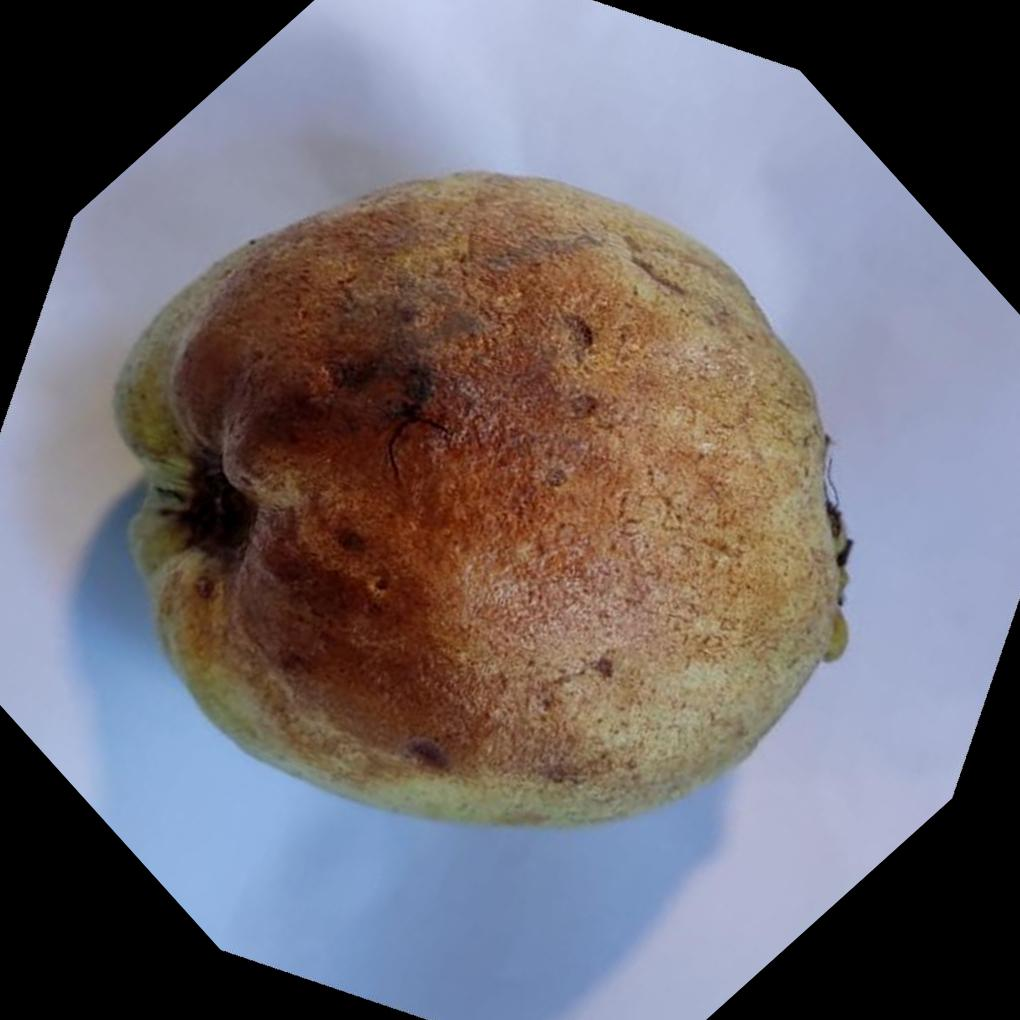FreshOrange: (108, 171, 849, 833)
